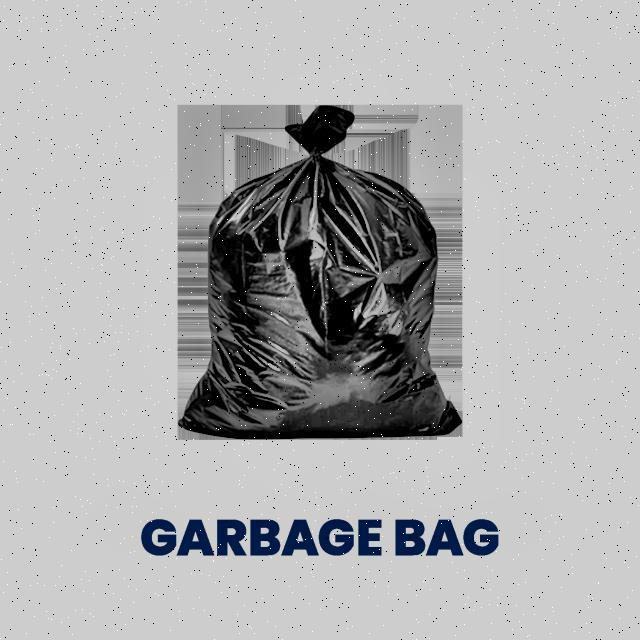Trashbag: (184, 145, 465, 450)
